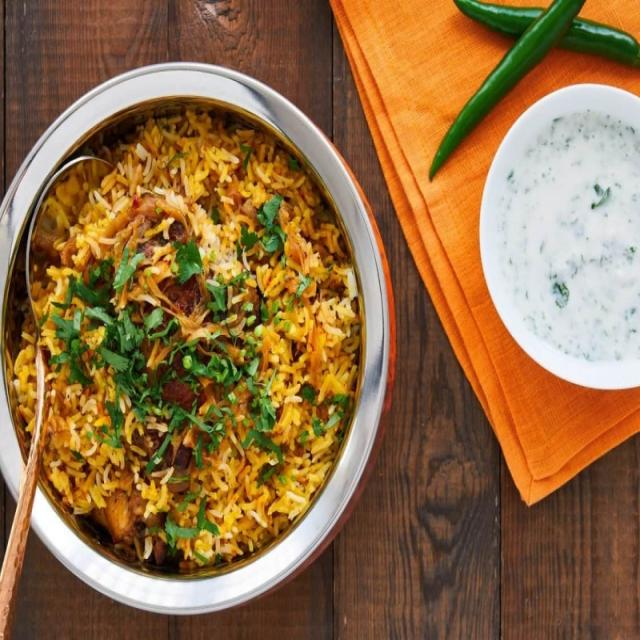Biryani: (1, 101, 371, 590)
